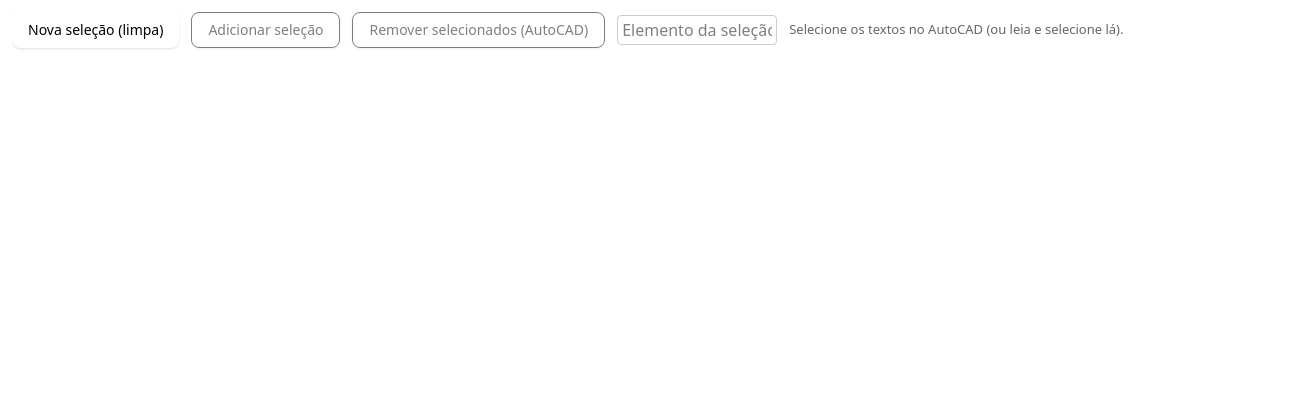
remover marcadas tira as linhas do checkbox (R-FER-SEL-003)
What coordinates should you click on to do the following:
click the button "Nova seleção (limpa)"
I would click on:
 (96, 30)
Its box is [12,12,179,48].
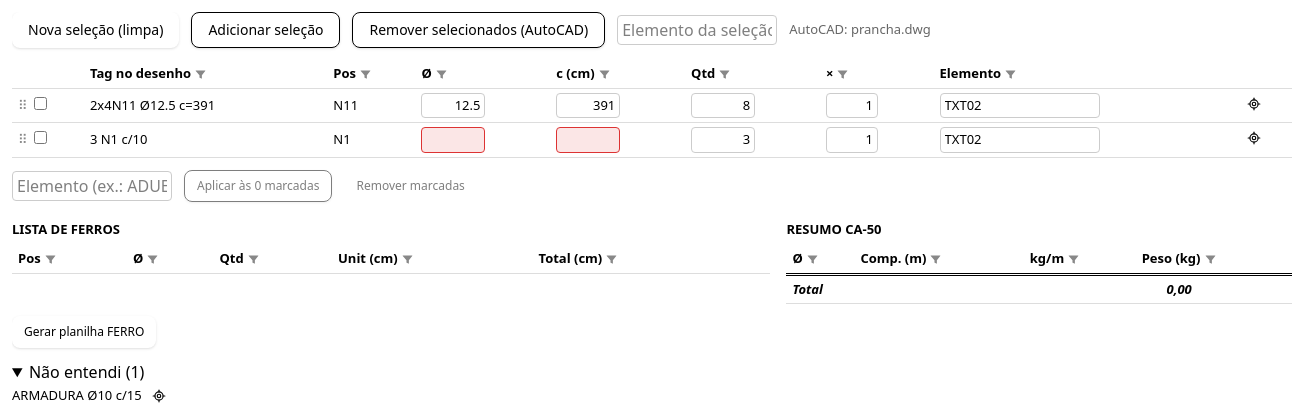
What coordinates should you click on to do the following:
click the checkbox named "Marcar A1"
I would click on:
 (40, 103)
Its box is [34,96,46,110].
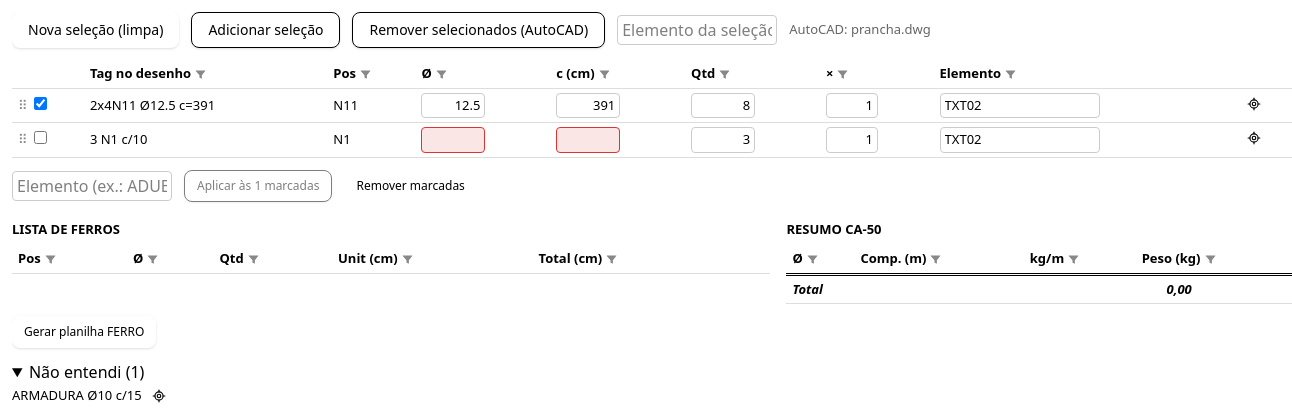
What coordinates should you click on to do the following:
click the button "Remover marcadas"
I would click on:
 (411, 186)
Its box is [344,170,477,202].
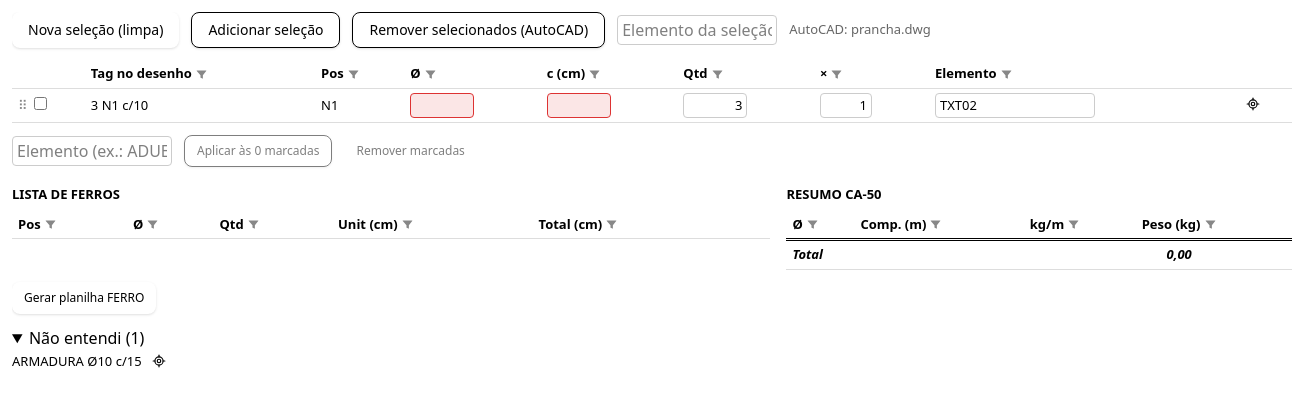
Now the text "2x4N11 Ø12.5 c=391" is gone
